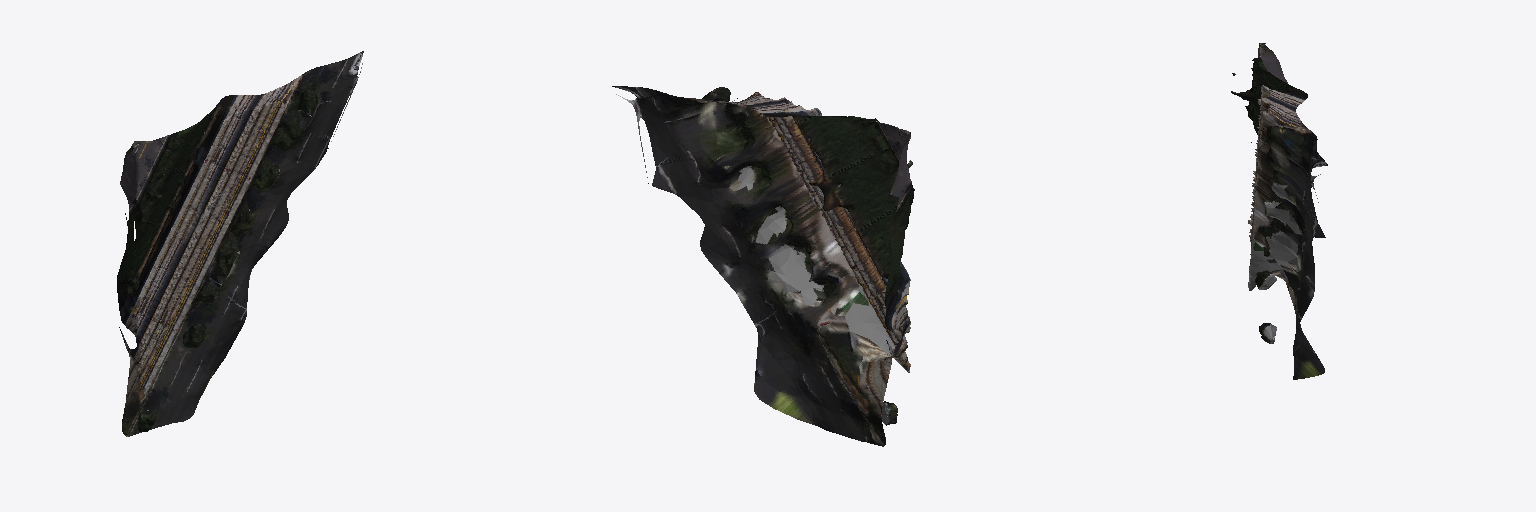
3 renders of one model, left to right at view 1: azimuth 30°, elevation 25°; view 2: azimuth 150°, elevation 25°; view 3: azimuth 270°, elevation 25°, orthographic.
Visible parts, largest first — view 1: Mesh; view 2: Mesh; view 3: Mesh.
Boxes of the visible parts, <box> form: Mesh: <box>117,51,363,436</box>; Mesh: <box>612,86,914,446</box>; Mesh: <box>1231,43,1327,379</box>.
Bounding box in the file's own units: 54.5 × 61.19 × 17.42.
Materials: 1 (1 with a texture image).